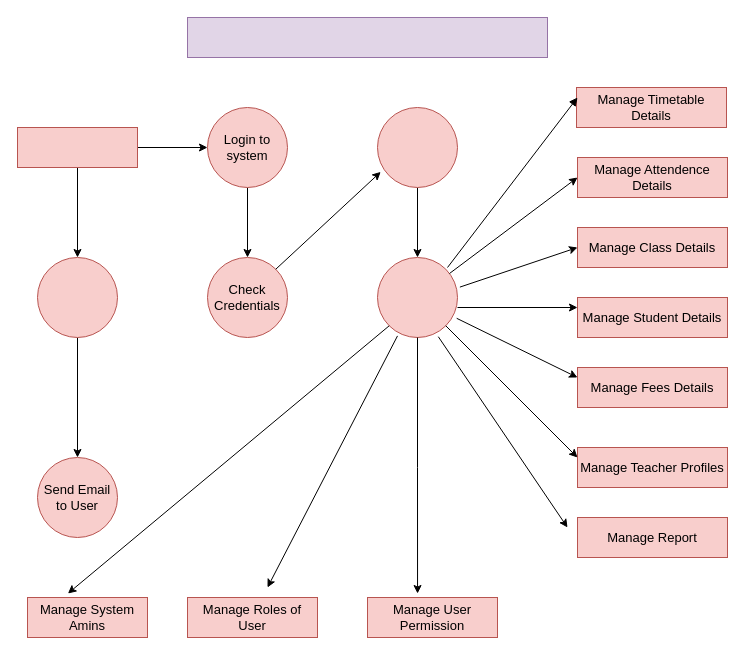
The diagram is 745 pixels wide and 655 high, and some of its shapes have lost their labels. The centre of each missing label's shape, as x and y in pixels:
Admin: the point at 77,147
Check Roles of Access: the point at 417,147
Forgot Password: the point at 77,297
Manage Modules: the point at 417,297
Student Information System: the point at 367,37
